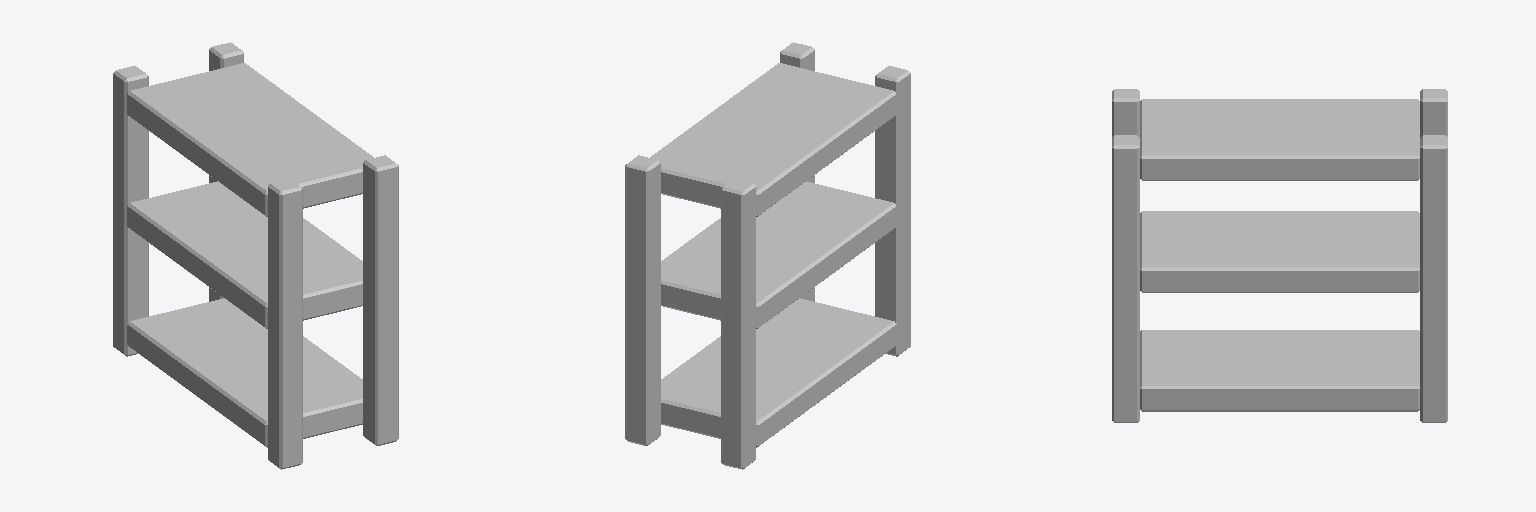
File: stand.obj
The picture shows the model from 3 angles: view 1: azimuth 30°, elevation 25°; view 2: azimuth 150°, elevation 25°; view 3: azimuth 270°, elevation 25°; orthographic projection.
Visible parts, largest first — view 1: standbase stand; view 2: standbase stand; view 3: standbase stand.
Part boxes in pixels (left/top/right/bottom): standbase stand: left=113, top=42, right=398, bottom=469; standbase stand: left=625, top=42, right=910, bottom=469; standbase stand: left=1112, top=89, right=1447, bottom=422.
Bounding box in the file's own units: 2.58 × 5.72 × 6.27.